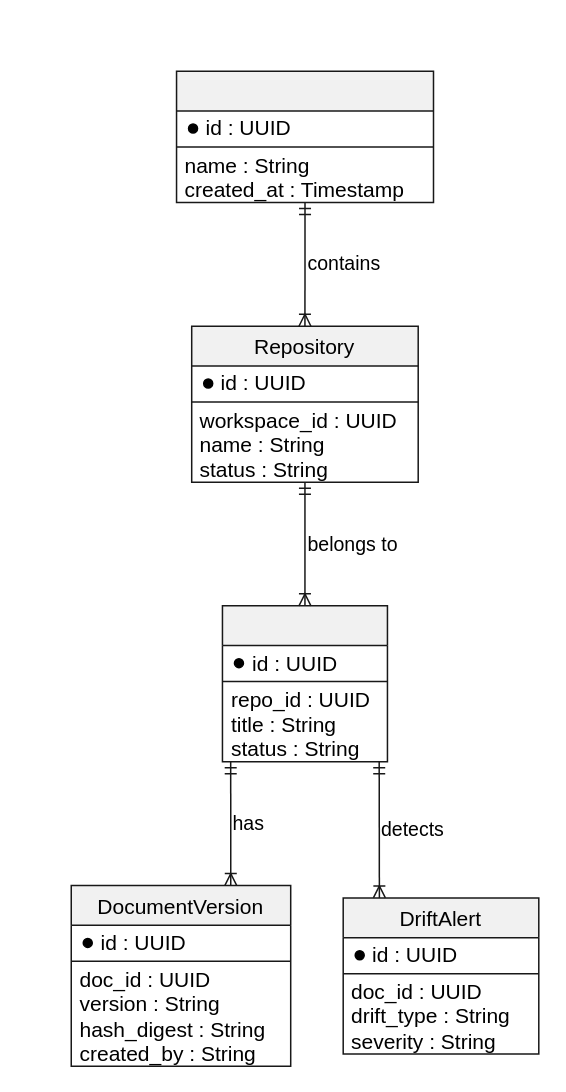
Some shapes in this 566 by 1092 pixel diagram are drawn without their labels. The shapes that lost their labels are listed below. From the top down, each one's box as (x1, y1, x2, y2) in pixels, then its label:
(175, 70, 434, 202): Workspace
(221, 604, 387, 762): Document
